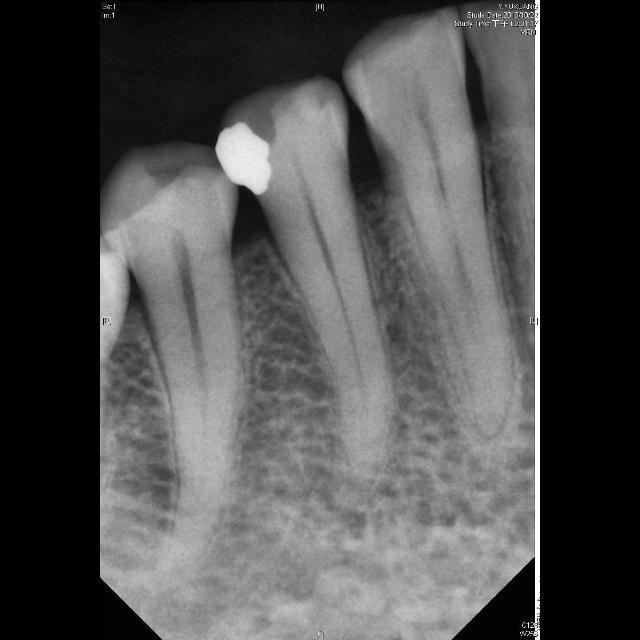teeth: (345, 9, 511, 435), (221, 78, 394, 479), (100, 143, 242, 578)
